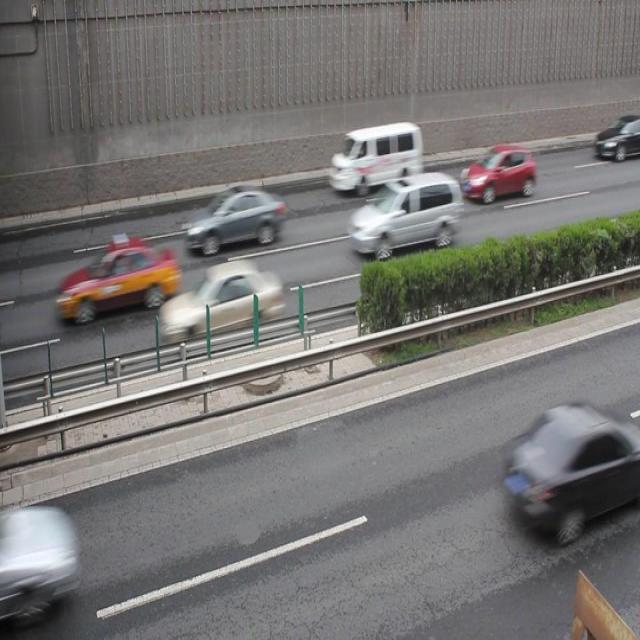car: (501, 406, 640, 540), (60, 235, 176, 323), (160, 262, 283, 344), (1, 498, 73, 622), (348, 176, 456, 257), (183, 186, 284, 253), (458, 145, 535, 202), (592, 114, 640, 160)
truck: (330, 124, 421, 192)
